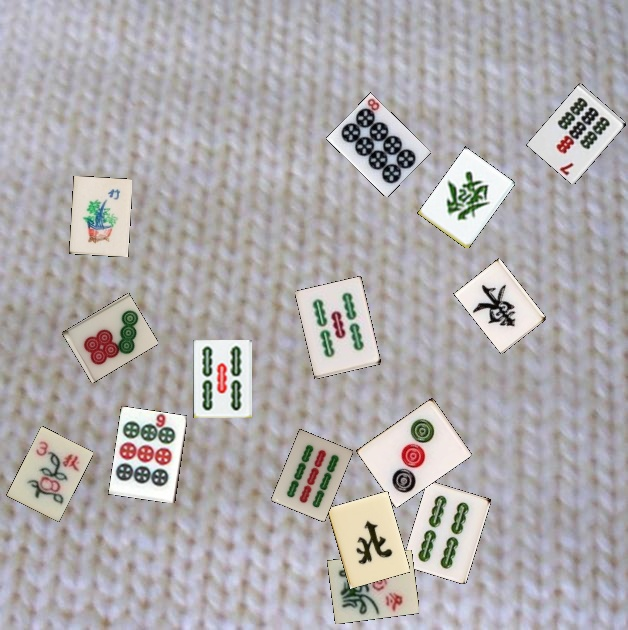bamboo-4: (401, 480, 491, 584)
bamboo-5: (295, 276, 381, 379), (193, 340, 252, 418)
bamboo-7: (526, 82, 626, 184)
bamboo-9: (271, 429, 353, 522)
bonus-autumn: (6, 426, 93, 522)
bonus-bamboo: (69, 176, 132, 257)
bonus-winter: (327, 550, 419, 624)
dots-3: (356, 398, 472, 508)
dots-7: (61, 293, 158, 383)
dots-8: (326, 92, 431, 197)
dots-9: (108, 406, 187, 503)
honors-east: (453, 258, 546, 354)
honors-green: (417, 146, 515, 248)
honors-north: (327, 491, 410, 589)
